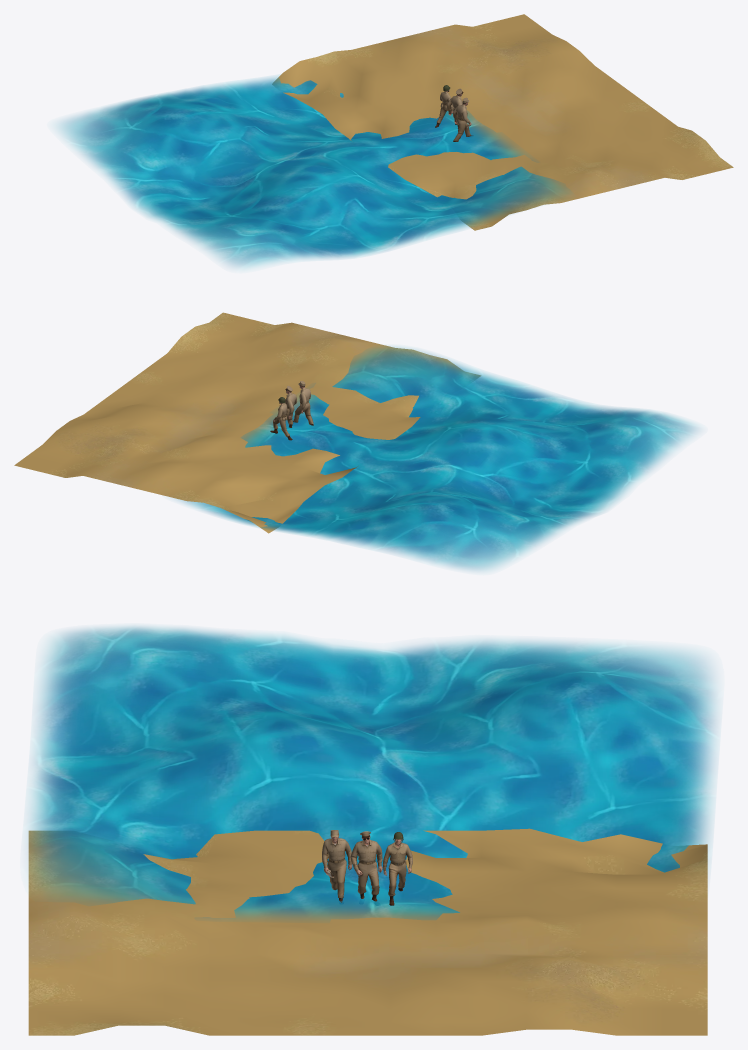
Rendered from mcarthur.optimized.glb.
3 renders of one model, top to bottom at view 1: azimuth 30°, elevation 25°; view 2: azimuth 150°, elevation 25°; view 3: azimuth 270°, elevation 25°, orthographic. The views are drawn at different scales.
Bounding box in the file's own units: 7.94 × 0.9172 × 5.93.
3 materials, 3 textured.
